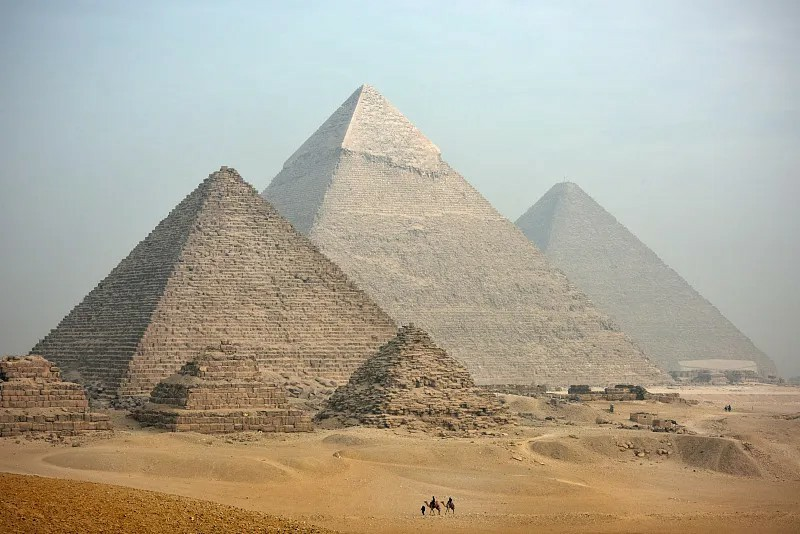Pyramid: (258, 84, 677, 389), (27, 166, 401, 408), (512, 183, 781, 383), (321, 322, 515, 430), (125, 340, 314, 434), (1, 356, 118, 442)
